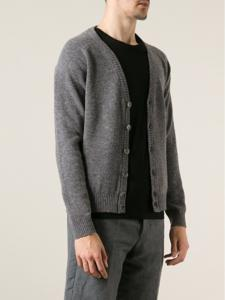S_cardigan sweater: (48, 27, 190, 232)
